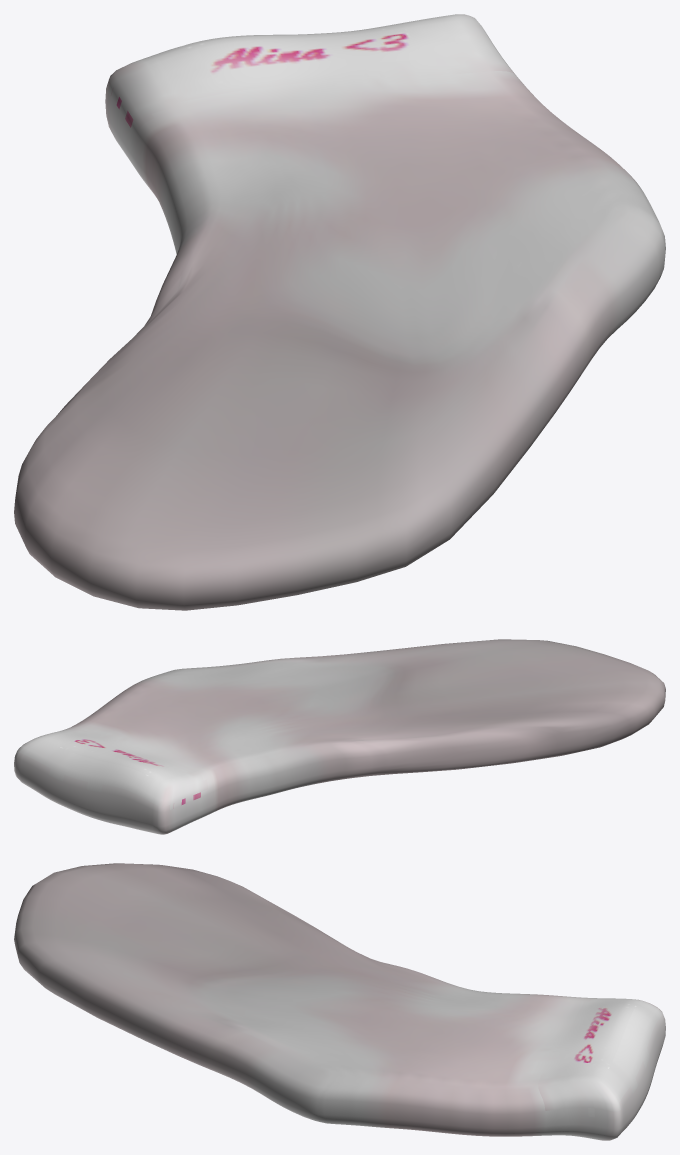
Rendered from Spezialsocke.fbx.
The picture shows the model from 3 angles, top to bottom: view 1: azimuth 30°, elevation 25°; view 2: azimuth 150°, elevation 25°; view 3: azimuth 270°, elevation 25°; orthographic projection. The views are drawn at different scales.
Visible parts, largest first — view 1: Plane.007; view 2: Plane.007; view 3: Plane.007.
Part boxes in pixels (box(x1,y1,x2,y2)): Plane.007: box(14, 14, 665, 610); Plane.007: box(14, 639, 665, 834); Plane.007: box(14, 863, 665, 1140).
Bounding box in the file's own units: 115 × 15.15 × 128.
Materials: 1 (1 with a texture image).
